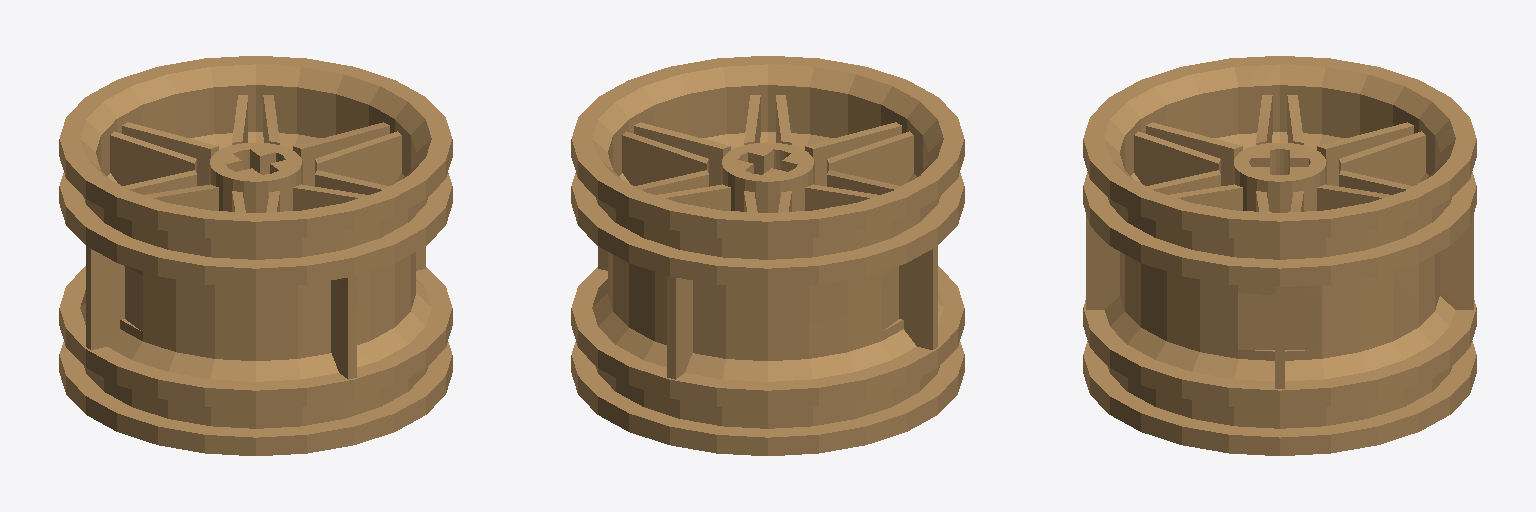
3 renders of one model, left to right at view 1: azimuth 30°, elevation 25°; view 2: azimuth 150°, elevation 25°; view 3: azimuth 270°, elevation 25°, orthographic.
Parts seen in each view (by area): view 1: Inner-Node-boss__1_dot_io-33.001; view 2: Inner-Node-boss__1_dot_io-33.001; view 3: Inner-Node-boss__1_dot_io-33.001.
Part boxes in pixels (x1,y1,x2,y2): Inner-Node-boss__1_dot_io-33.001: (59, 56, 452, 455); Inner-Node-boss__1_dot_io-33.001: (571, 56, 964, 455); Inner-Node-boss__1_dot_io-33.001: (1083, 56, 1476, 455).
Size of the model in its own units: 0.3712 by 0.2446 by 0.3718.
1 materials, 1 textured.